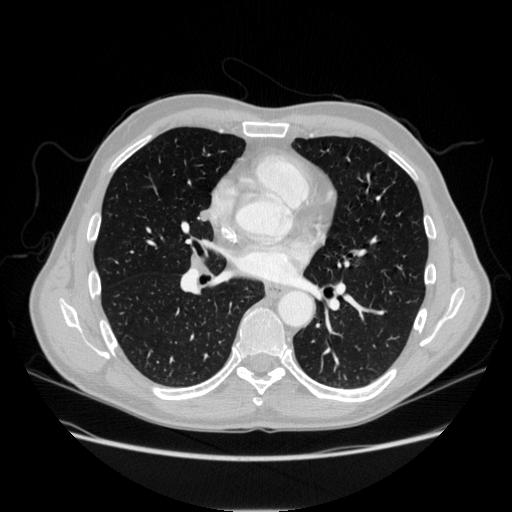nodule: (197, 208, 212, 223)
